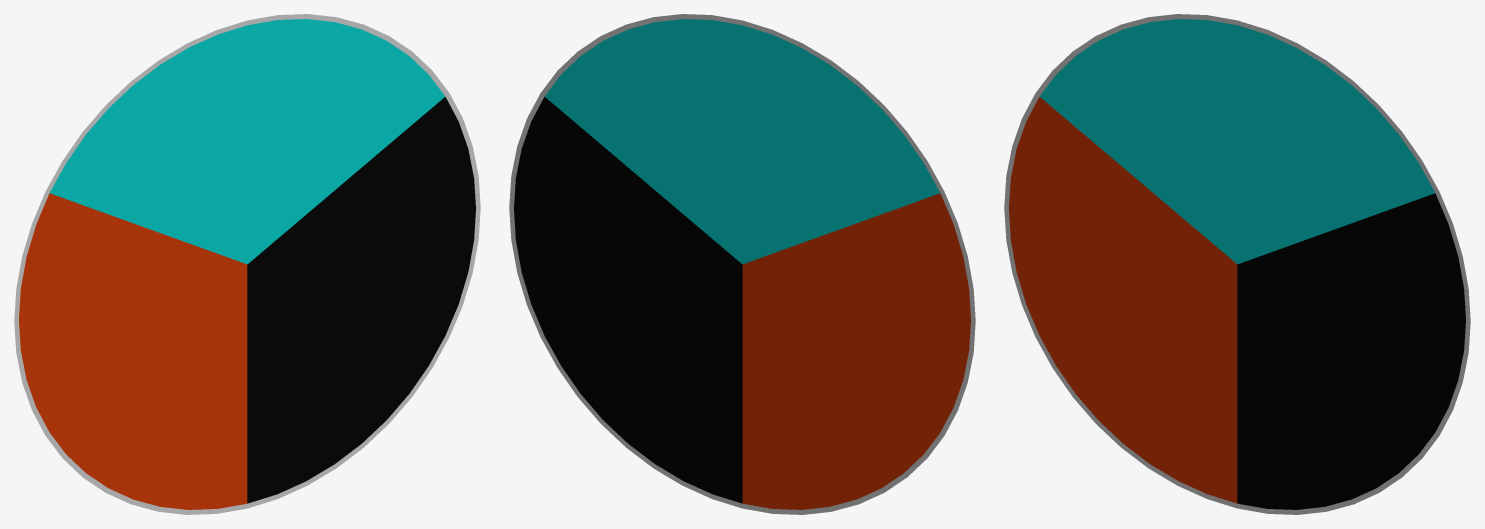
File: RotateBack.fbx
The picture shows the model from 3 angles, left to right: view 1: azimuth 30°, elevation 25°; view 2: azimuth 150°, elevation 25°; view 3: azimuth 330°, elevation 25°; orthographic projection.
Parts seen in each view (by area): view 1: Circle; view 2: Circle; view 3: Circle.
Boxes of the visible parts, bbox=[...] form: Circle: bbox=[14, 14, 480, 514]; Circle: bbox=[509, 14, 975, 514]; Circle: bbox=[1004, 14, 1470, 514].
Size of the model in its own units: 10 by 10 by 1.4e-06.
